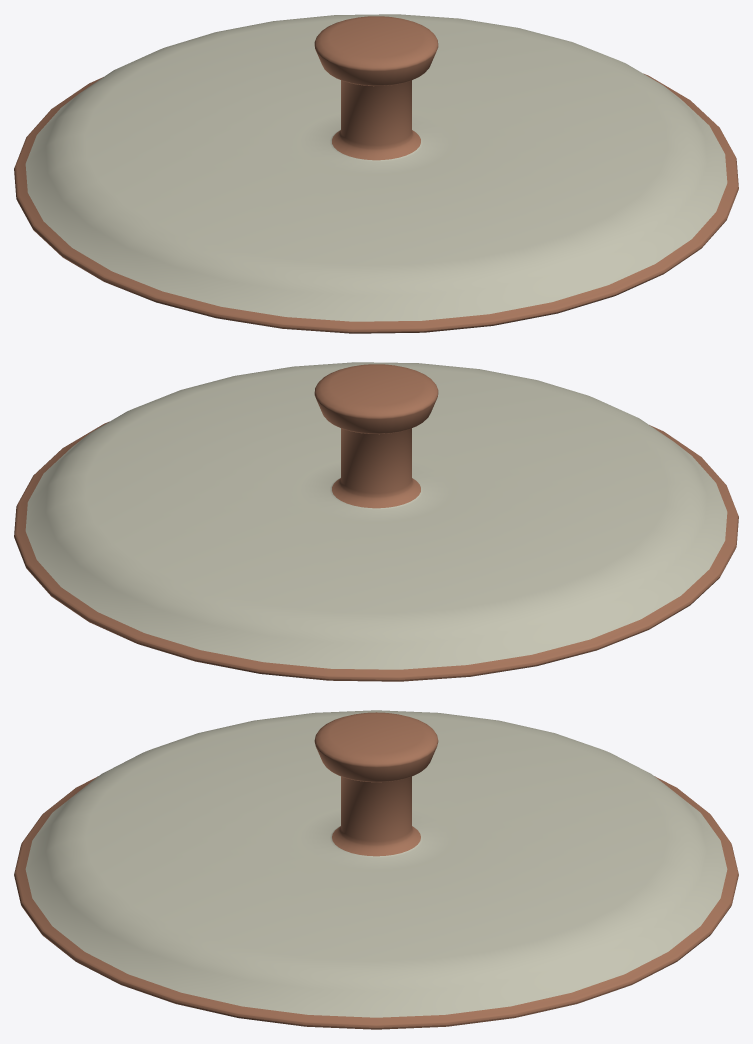
Rendered from cookerLid.fbx.
3 views of the same model, one above another, from view 1: azimuth 30°, elevation 25°; view 2: azimuth 150°, elevation 25°; view 3: azimuth 270°, elevation 25° (orthographic).
Visible parts, largest first — view 1: cookercover; view 2: cookercover; view 3: cookercover.
Boxes of the visible parts, x1=… form: cookercover: x1=14, y1=14, x2=738, y2=333; cookercover: x1=14, y1=362, x2=738, y2=681; cookercover: x1=14, y1=710, x2=738, y2=1029.
Bounding box in the file's own units: 302 × 65.91 × 302.
